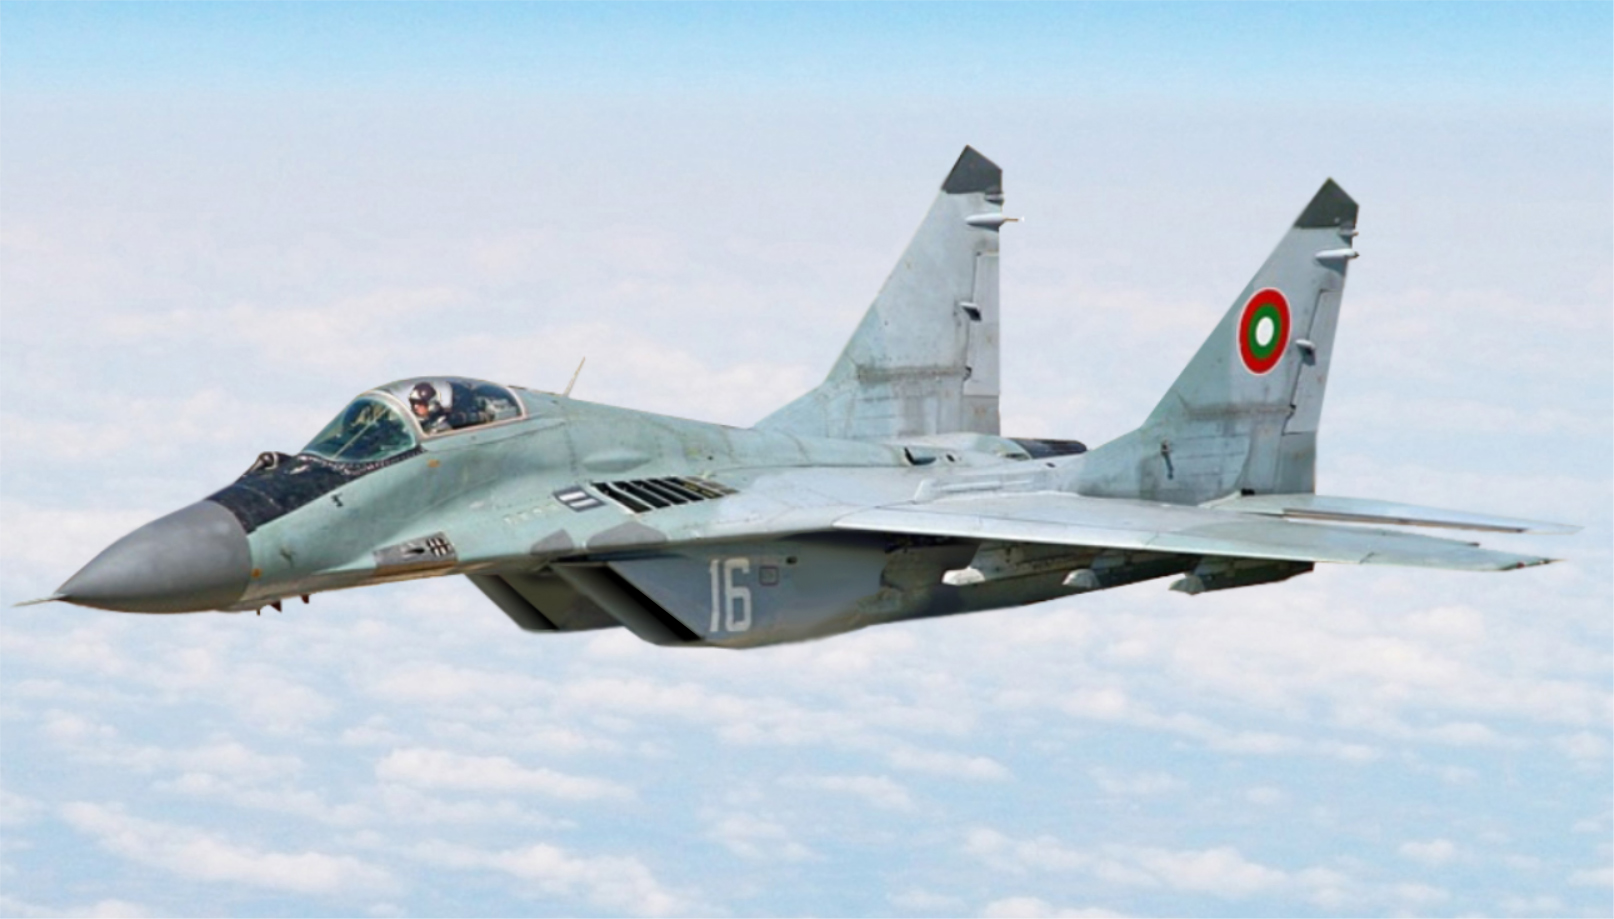Mig-29: (60, 102, 1586, 684)
